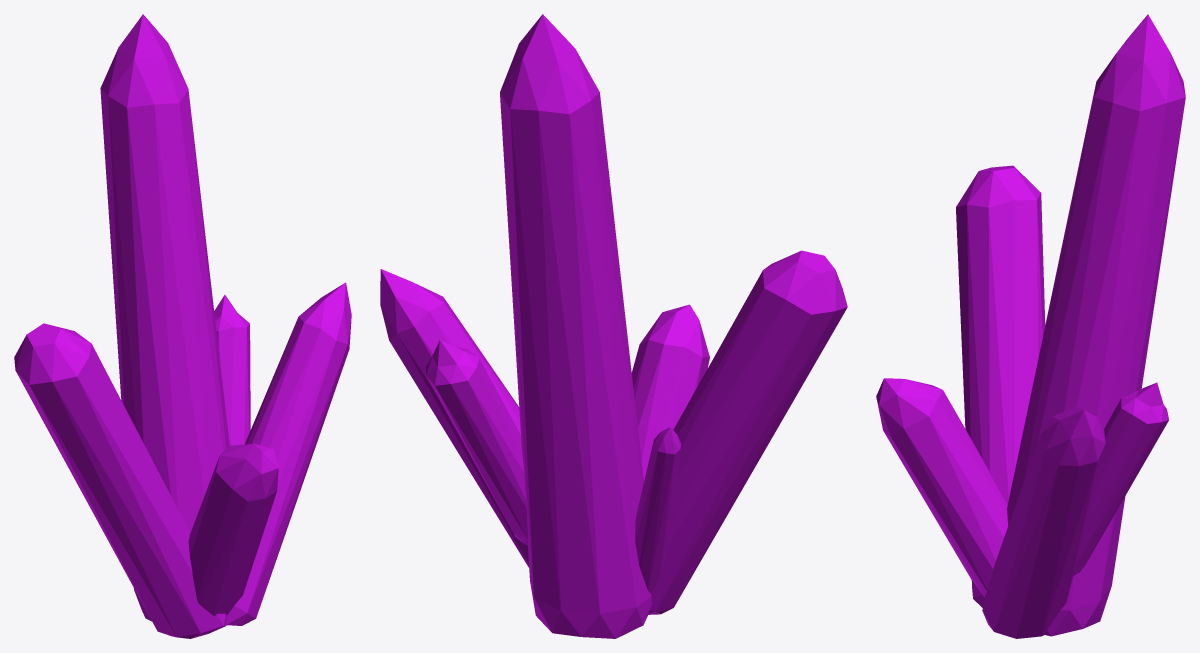
The model's file is thystame.fbx.
3 renders of one model, left to right at view 1: azimuth 30°, elevation 25°; view 2: azimuth 150°, elevation 25°; view 3: azimuth 270°, elevation 25°, orthographic. The views are drawn at different scales.
Visible parts, largest first — view 1: Icosphere, Icosphere.001, Icosphere.002, Icosphere.005, Icosphere.004; view 2: Icosphere, Icosphere.001, Icosphere.004, Icosphere.002, Icosphere.005, Icosphere.003; view 3: Icosphere, Icosphere.001, Icosphere.002, Icosphere.005, Icosphere.004.
Boxes of the visible parts, <box> form: Icosphere: <box>100,14,229,621</box>; Icosphere.001: <box>14,323,226,638</box>; Icosphere.002: <box>226,282,351,625</box>; Icosphere.005: <box>188,443,278,615</box>; Icosphere.004: <box>214,295,250,445</box>; Icosphere: <box>500,14,651,638</box>; Icosphere.001: <box>648,250,847,614</box>; Icosphere.004: <box>426,340,528,544</box>; Icosphere.002: <box>380,269,529,567</box>; Icosphere.005: <box>631,304,709,481</box>; Icosphere.003: <box>635,427,681,593</box>; Icosphere: <box>1007,14,1185,636</box>; Icosphere.001: <box>956,165,1045,607</box>; Icosphere.002: <box>982,406,1105,638</box>; Icosphere.005: <box>876,378,1007,597</box>; Icosphere.004: <box>1073,382,1168,575</box>.
Size of the model in its own units: 87.62 by 130 by 60.52.
